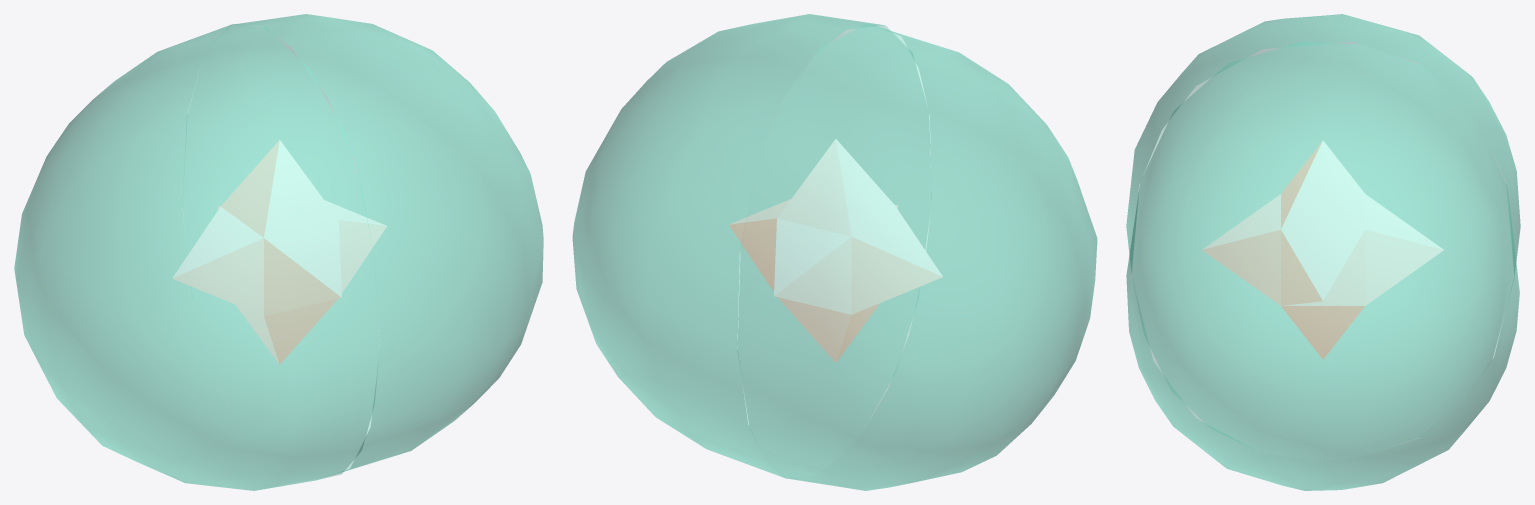
Rendered from abyssal_cell.glb.
The picture shows the model from 3 angles, left to right: view 1: azimuth 30°, elevation 25°; view 2: azimuth 150°, elevation 25°; view 3: azimuth 270°, elevation 25°; orthographic projection. The views are drawn at different scales.
Parts seen in each view (by area): view 1: flesh, star_core; view 2: flesh, star_core; view 3: flesh, star_core.
Boxes of the visible parts, x1,y1,x2,y2 form: flesh: (14,14,543,490); star_core: (172,140,386,364); flesh: (572,14,1097,490); star_core: (729,139,942,362); flesh: (1126,14,1520,490); star_core: (1202,140,1443,359).
Bounding box in the file's own units: 2.27 × 1.97 × 1.69.
